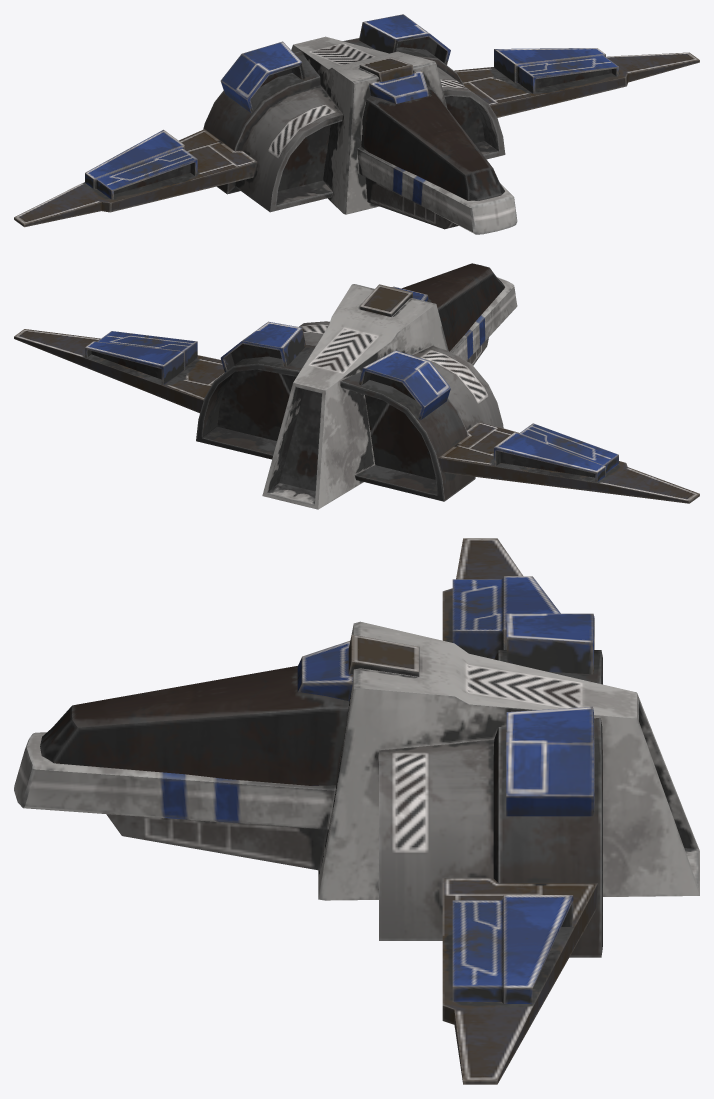
The model's file is bob.glb.
3 renders of one model, top to bottom at view 1: azimuth 30°, elevation 25°; view 2: azimuth 150°, elevation 25°; view 3: azimuth 270°, elevation 25°, orthographic. The views are drawn at different scales.
Bounding box in the file's own units: 10.5 × 2.04 × 5.61.
Materials: 1 (1 with a texture image).
